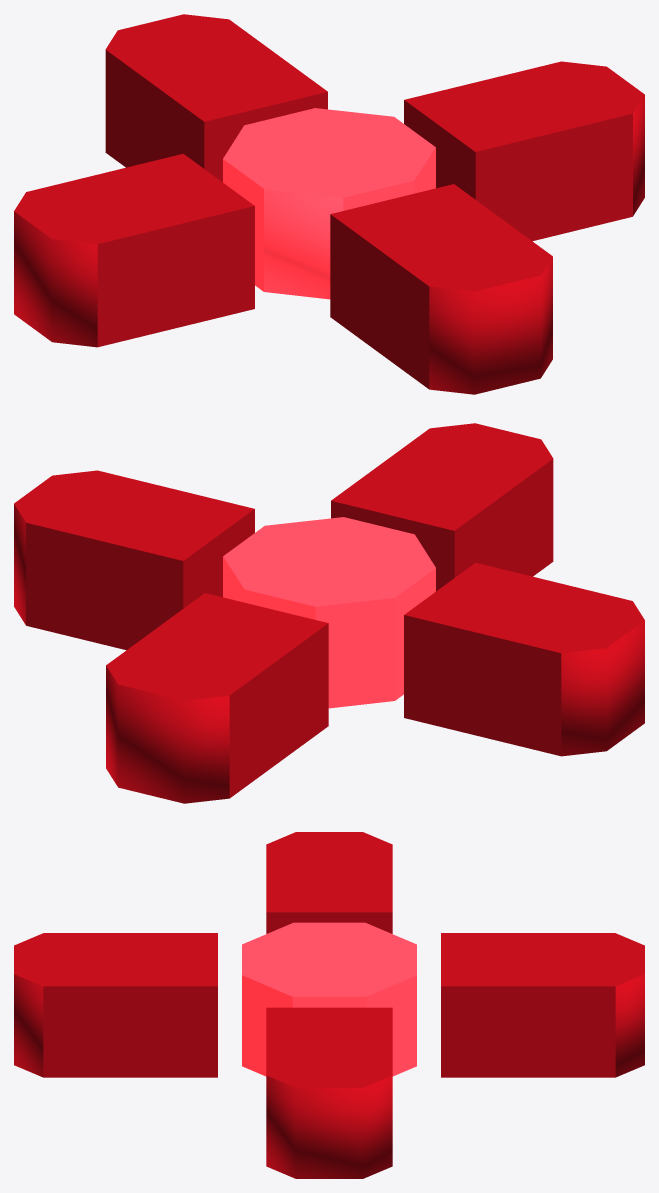
Rendered from red_pharaoh.gltf.
The picture shows the model from 3 angles, top to bottom: view 1: azimuth 30°, elevation 25°; view 2: azimuth 150°, elevation 25°; view 3: azimuth 270°, elevation 25°; orthographic projection. The views are drawn at different scales.
Visible parts, largest first — view 1: icon_pharaoh_red; view 2: icon_pharaoh_red; view 3: icon_pharaoh_red.
Part boxes in pixels (x1,y1,x2,y2): icon_pharaoh_red: [14, 14, 644, 394]; icon_pharaoh_red: [14, 423, 644, 803]; icon_pharaoh_red: [14, 832, 644, 1178].
Size of the model in its own units: 2.03 by 0.3378 by 2.12.
2 materials, 2 textured.
